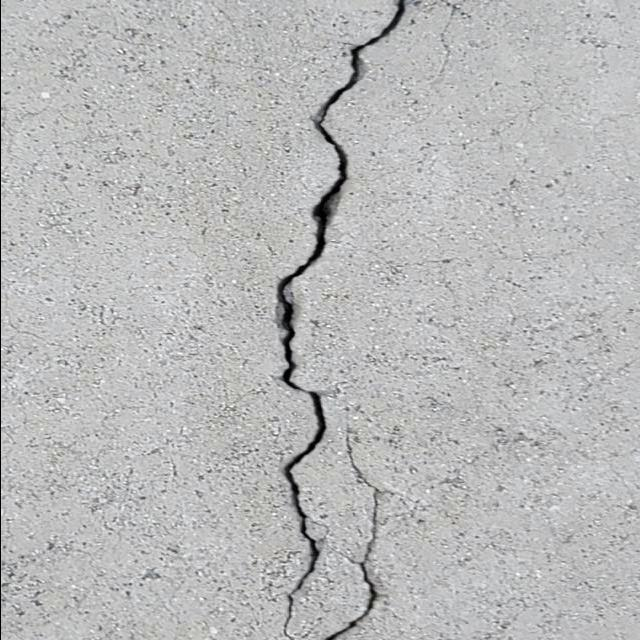SurfaceCrack: (247, 1, 469, 640)
